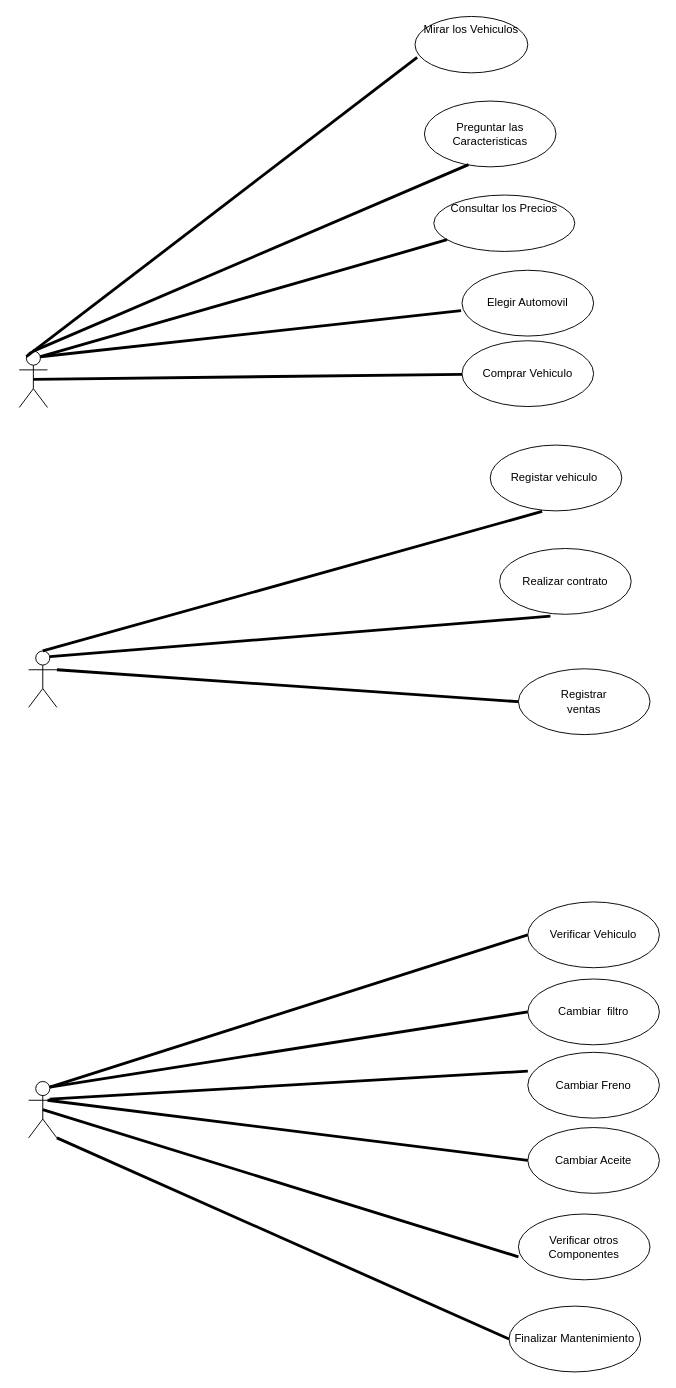
Image size: 676x1388. Some labels were removed from this diagram. Each missing label, with the centre of its shape:
Cliente: (x=32, y=378)
Mecanico: (x=42, y=1109)
Vendedor: (x=42, y=678)
